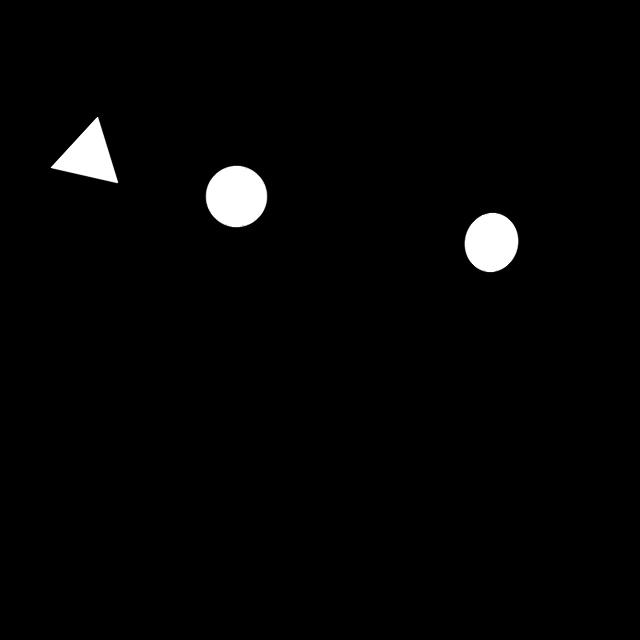Circle: (193, 157, 279, 237), (452, 206, 530, 284)
Triangle: (38, 99, 134, 192)
